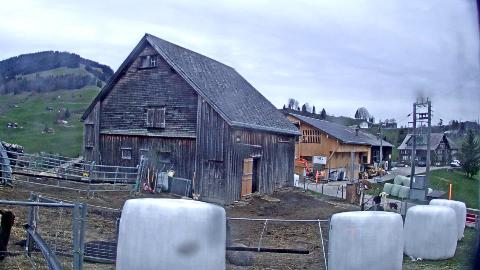car: (451, 160, 460, 166), (418, 162, 426, 166)
sheep: (226, 220, 254, 266), (0, 210, 15, 260), (83, 240, 117, 260), (15, 153, 38, 174), (379, 192, 399, 212), (374, 195, 386, 211), (38, 171, 60, 179), (182, 193, 200, 200)
